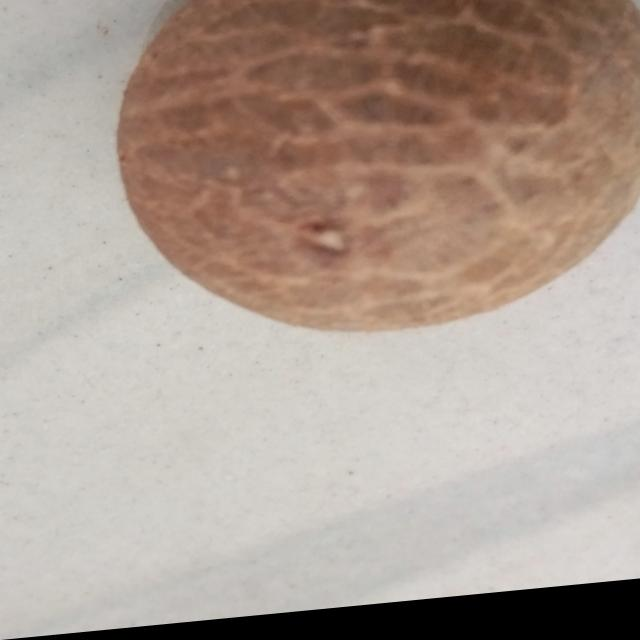good: (102, 0, 640, 372)
